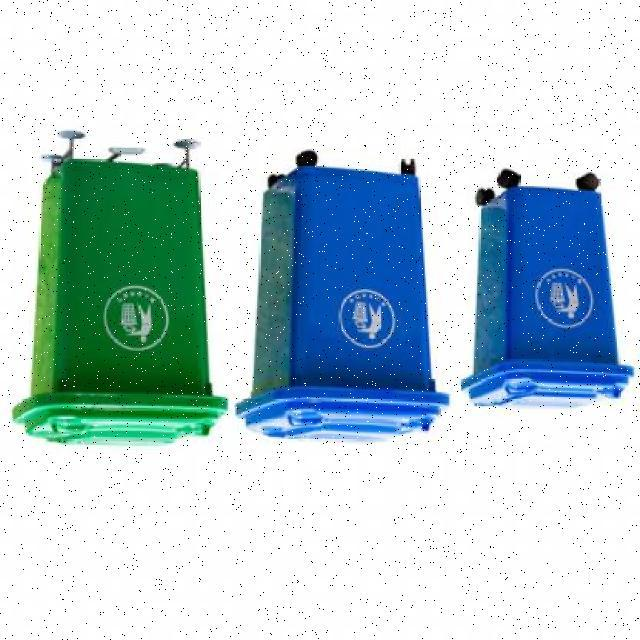garbage container: (2, 113, 233, 456), (234, 134, 457, 454), (454, 146, 640, 423)
